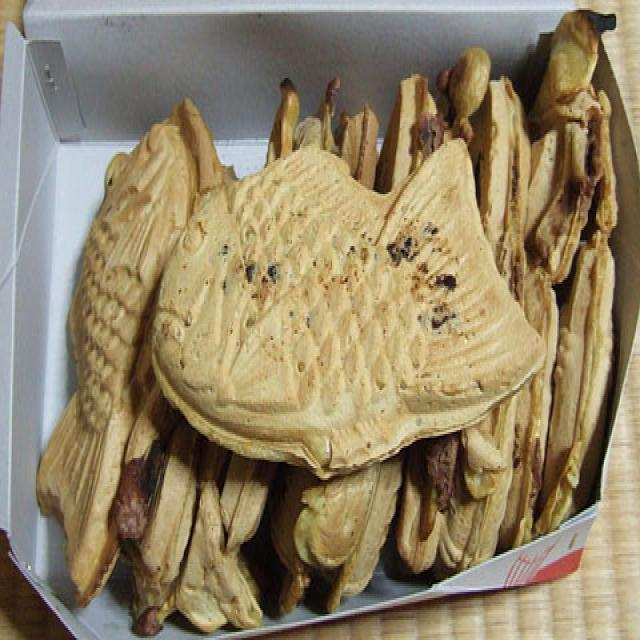熟制海鲜: (38, 78, 554, 582)
